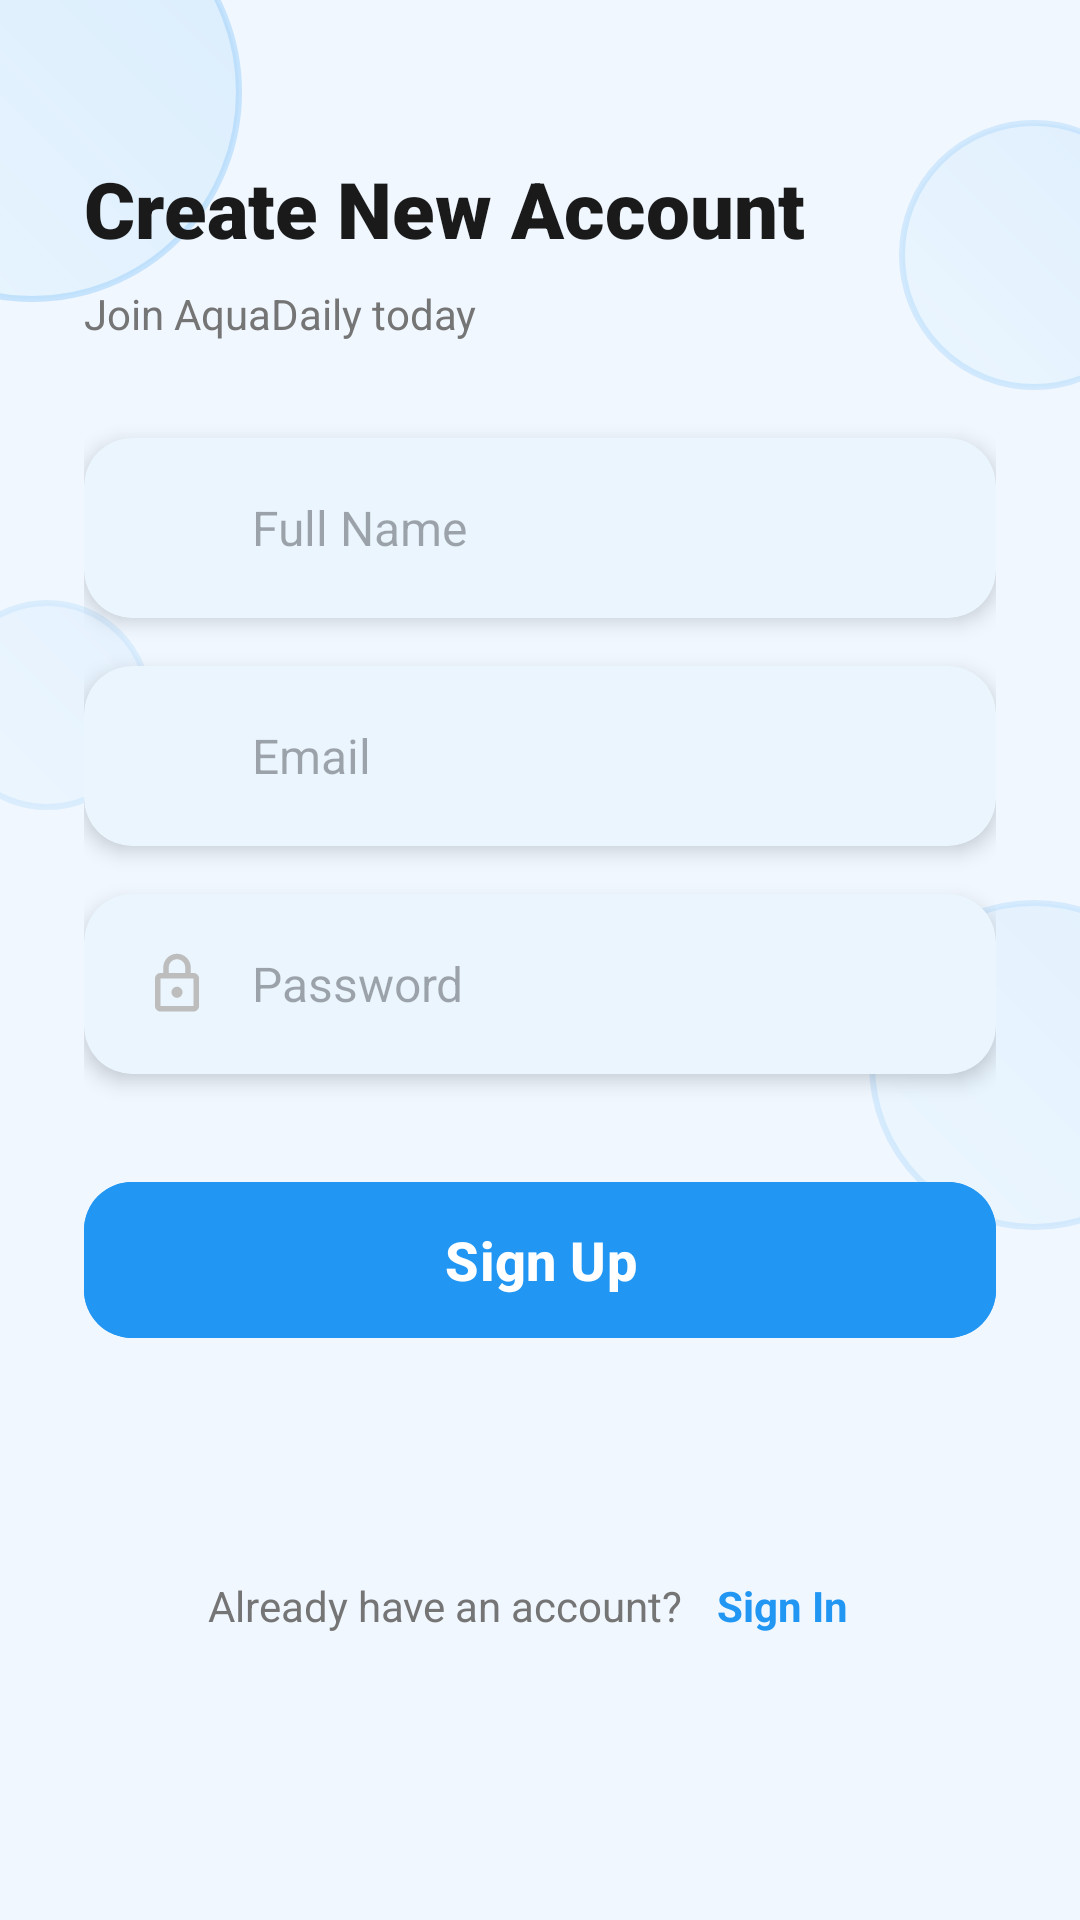

Icon click points for this 1080×1920 phone screenshot, format (x=x, y=y):
lock: (x=177, y=983)
